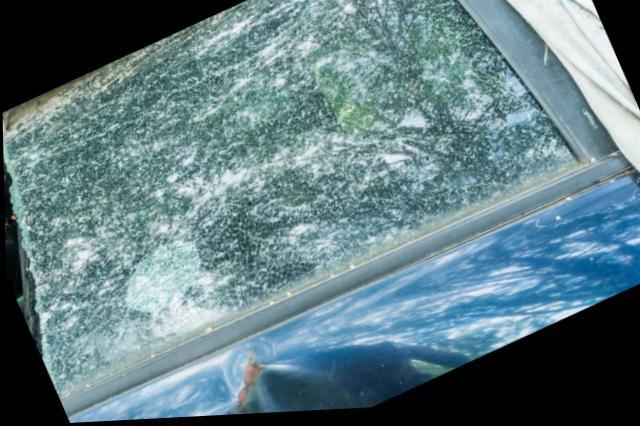dent: (225, 345, 386, 417)
glass shatter: (2, 0, 581, 396)
